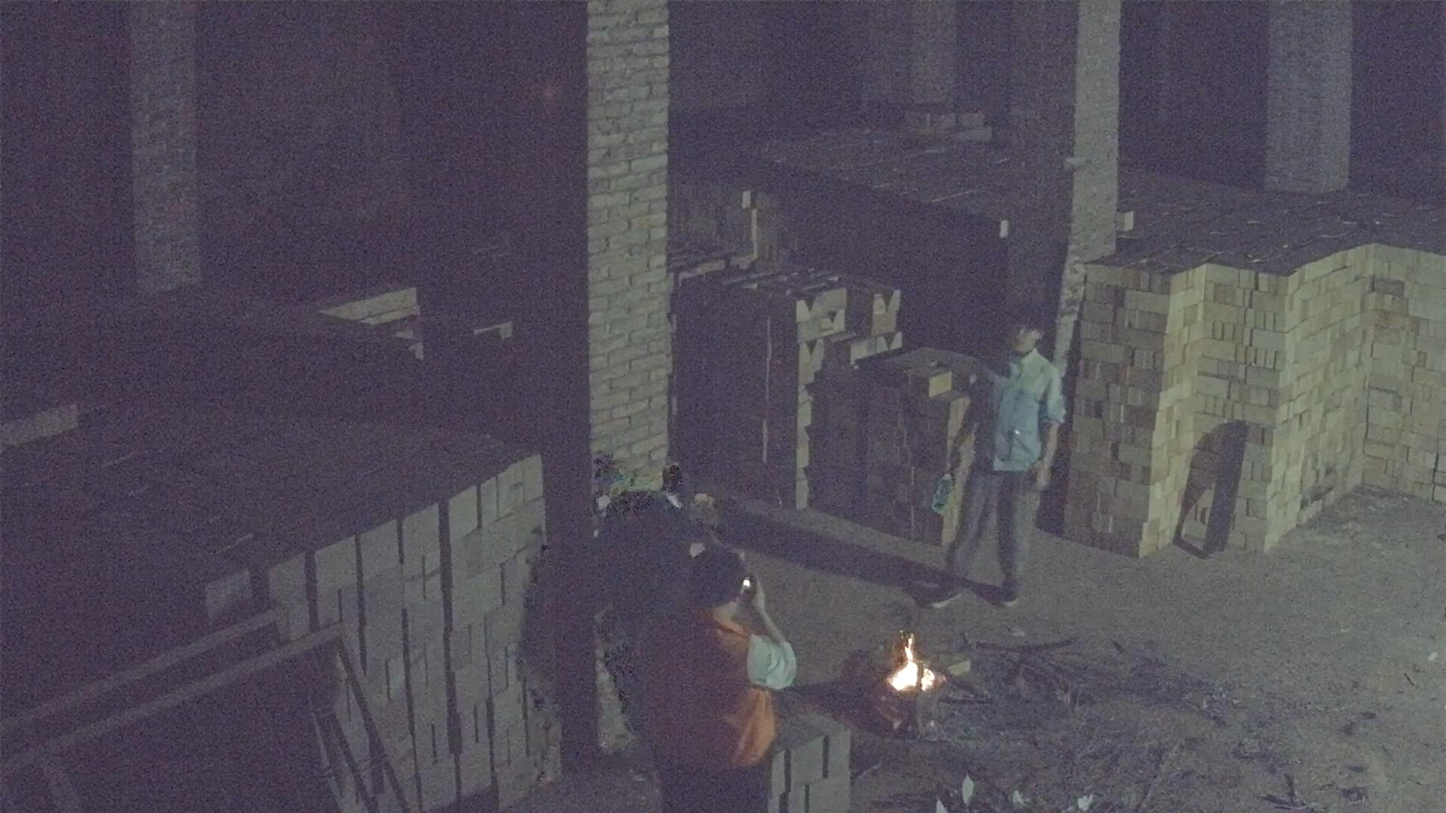fire: (886, 633, 938, 696)
